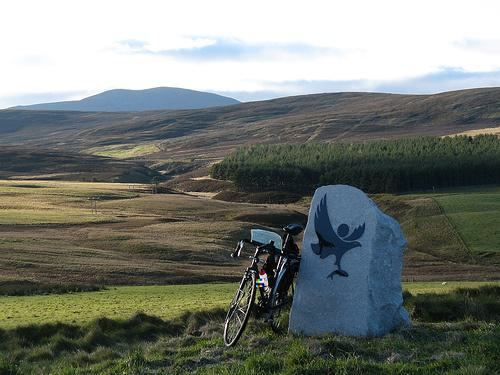car: (222, 220, 299, 347)
